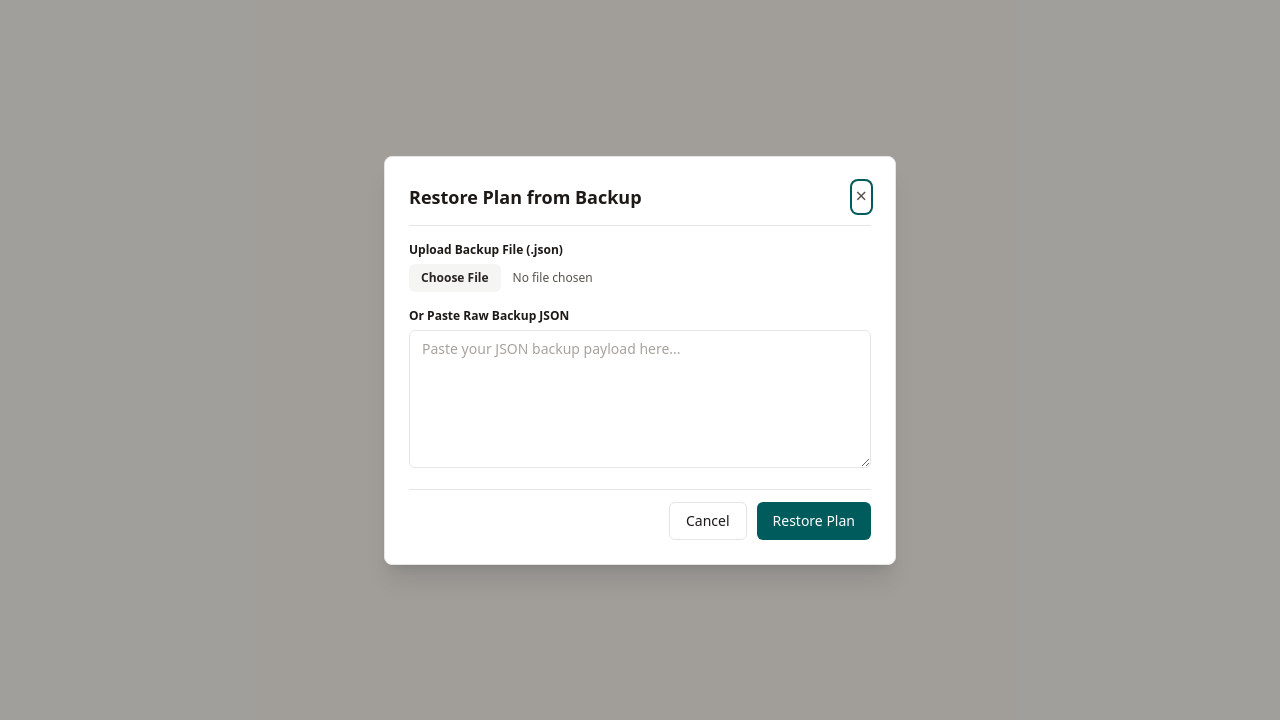
Test: RestoreModal component › displays error alert when invalid JSON is submitted
The image size is (1280, 720).
Type "not-json" into the text box labelled "Or Paste Raw Backup JSON" at (640, 398), box [409, 330, 871, 468]
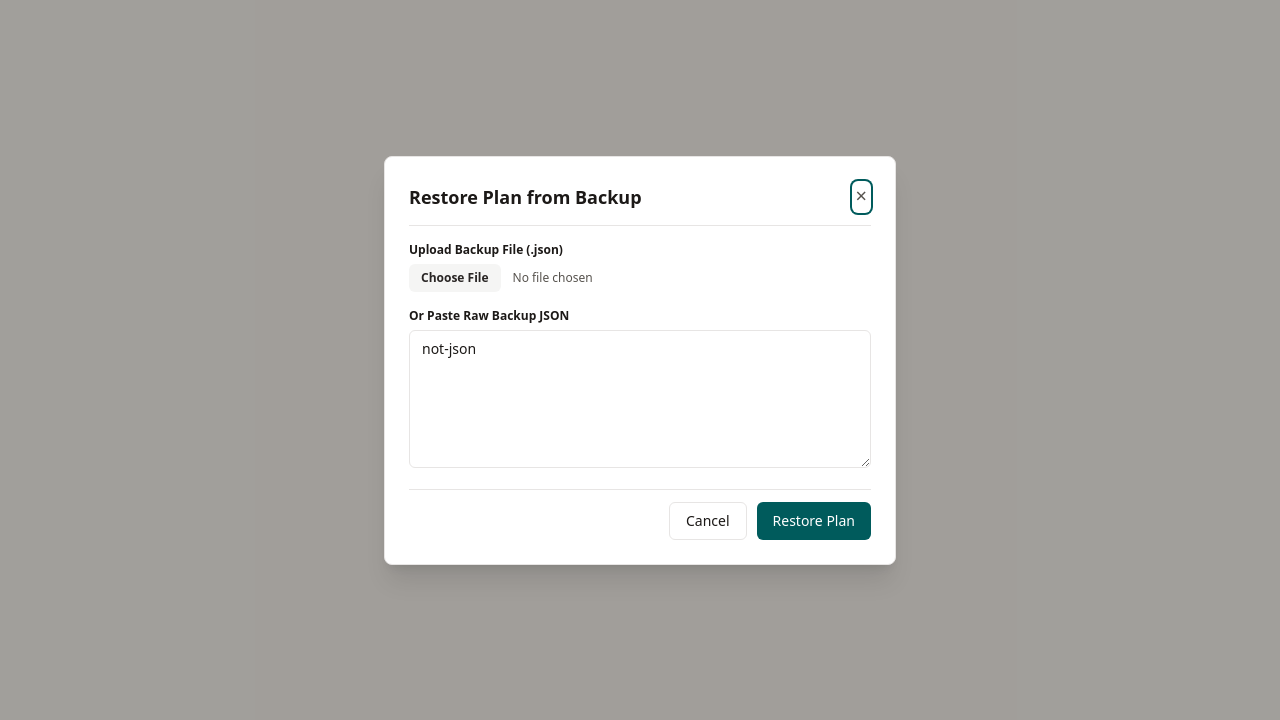
Click the button "Restore Plan" at (814, 520), box [756, 502, 871, 540]
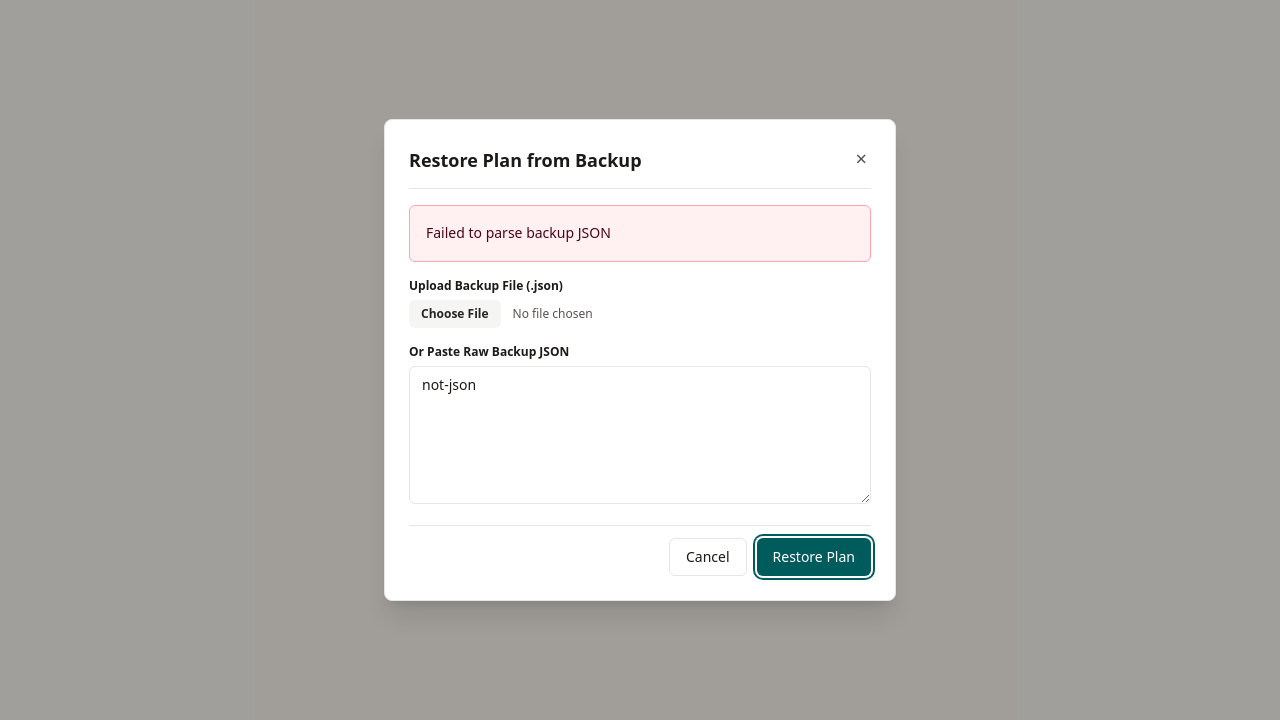
Result: the message "Failed to parse backup JSON" is shown at [409, 205, 871, 262]
